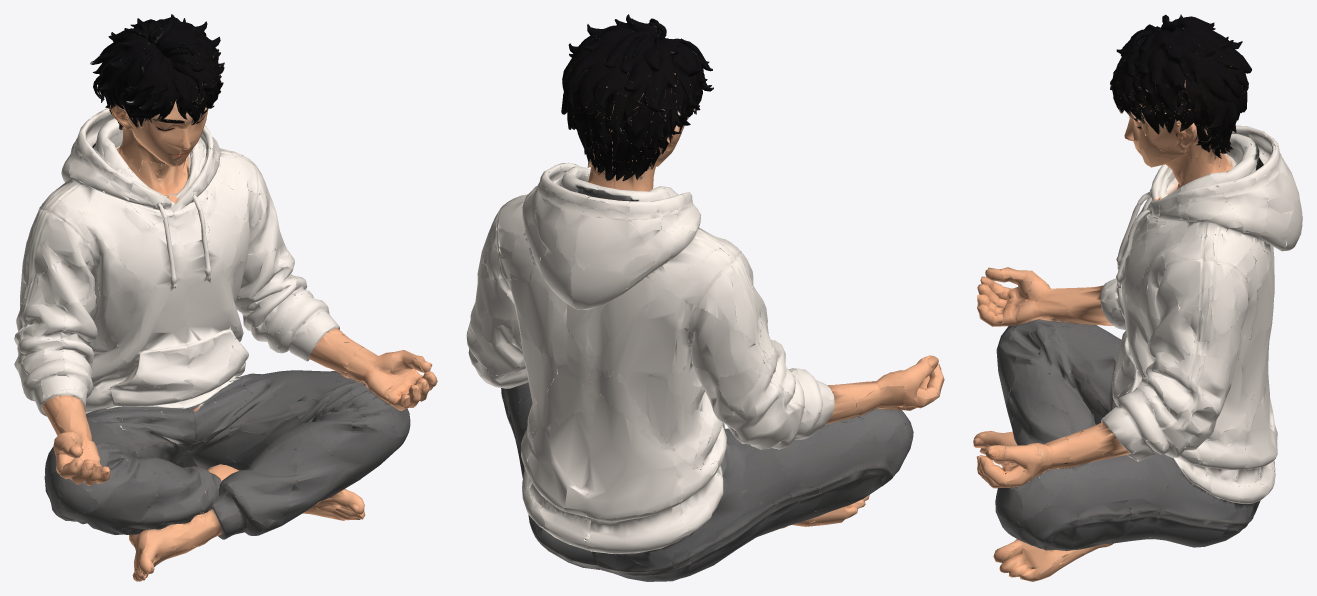
File: meditation.glb
3 renders of one model, left to right at view 1: azimuth 30°, elevation 25°; view 2: azimuth 150°, elevation 25°; view 3: azimuth 270°, elevation 25°, orthographic. The views are drawn at different scales.
Parts seen in each view (by area): view 1: Meditation_Resident; view 2: Meditation_Resident; view 3: Meditation_Resident.
Part boxes in pixels (bbox=[...]): Meditation_Resident: bbox=[14, 14, 437, 581]; Meditation_Resident: bbox=[466, 14, 944, 581]; Meditation_Resident: bbox=[973, 14, 1302, 581].
Size of the model in its own units: 0.7435 by 0.92 by 0.5408.
Materials: 1 (1 with a texture image).
